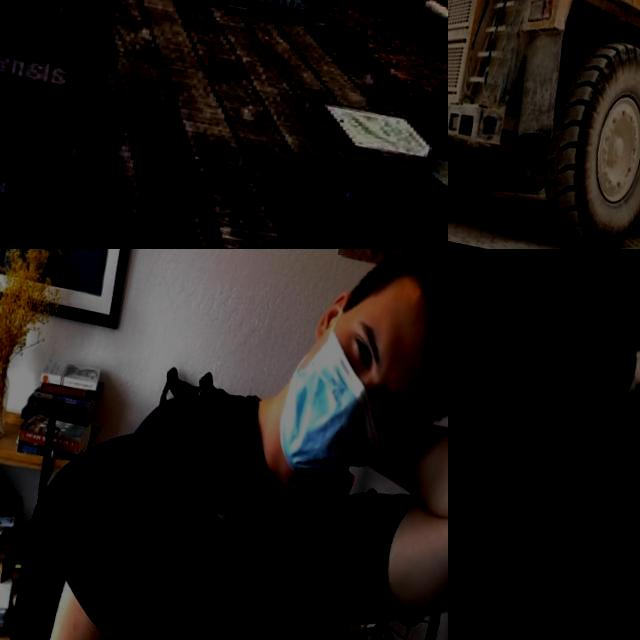machinery: (448, 0, 640, 249)
mask: (270, 326, 406, 489)
no_helmet: (376, 249, 448, 410)
no_vest: (93, 394, 370, 640)
person: (25, 249, 448, 640)
safety_cone: (297, 0, 448, 249)
